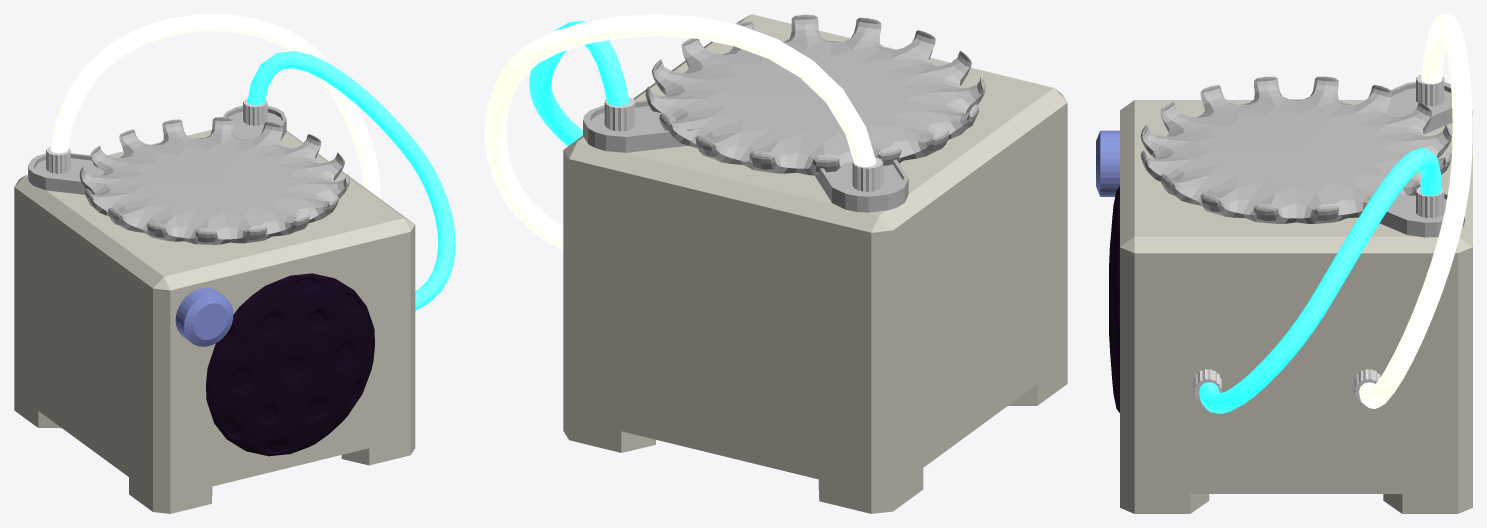
Rendered from interpreter-machine.gltf.
3 views of the same model, side by side, from view 1: azimuth 30°, elevation 25°; view 2: azimuth 150°, elevation 25°; view 3: azimuth 270°, elevation 25° (orthographic). The views are drawn at different scales.
Parts seen in each view (by area): view 1: main body, plate, speaker grill, green tube, blue tube, play button, left plate tube reciever, right plate tube reciever, green tube plate fitting, blue tube plate fitting; view 2: main body, plate, green tube, blue tube, right plate tube reciever, left plate tube reciever, blue tube plate fitting, green tube plate fitting; view 3: main body, plate, green tube, blue tube, speaker grill, right plate tube reciever, left plate tube reciever, play button, blue tube plate fitting, green tube plate fitting, blue tube body fitting.
Part boxes in pixels (x1,y1,x2,y2): main body: (14, 129, 415, 513); plate: (79, 117, 349, 244); speaker grill: (206, 273, 374, 456); green tube: (50, 14, 380, 198); blue tube: (247, 51, 455, 310); play button: (175, 287, 233, 346); left plate tube reciever: (28, 153, 108, 194); right plate tube reciever: (209, 105, 286, 141); green tube plate fitting: (46, 146, 70, 173); blue tube plate fitting: (243, 98, 267, 125); main body: (563, 14, 1067, 513); plate: (645, 14, 985, 175); green tube: (484, 14, 876, 249); blue tube: (529, 21, 629, 146); right plate tube reciever: (583, 100, 703, 152); left plate tube reciever: (814, 145, 908, 212); blue tube plate fitting: (604, 96, 635, 131); green tube plate fitting: (852, 157, 883, 191); main body: (1120, 100, 1472, 513); plate: (1140, 76, 1451, 223); green tube: (1359, 14, 1472, 408); blue tube: (1199, 147, 1441, 413); speaker grill: (1109, 186, 1119, 412); right plate tube reciever: (1380, 178, 1464, 237); left plate tube reciever: (1353, 82, 1452, 134); play button: (1096, 130, 1119, 196); blue tube plate fitting: (1416, 187, 1444, 218); green tube plate fitting: (1416, 74, 1444, 106); blue tube body fitting: (1193, 369, 1221, 402).
Bounding box in the file's own units: 3.51 × 3.32 × 2.75.
